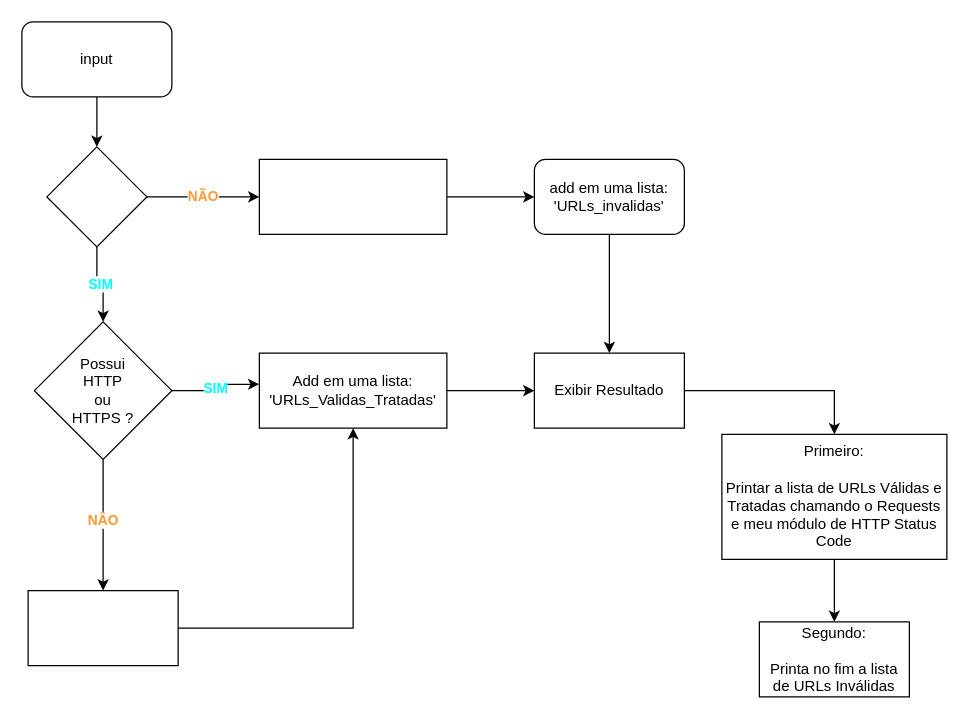
Some shapes in this 969 by 719 pixel diagram are drawn without their labels. The box of each missing label's shape, as (x1, y1, x2, y2) in pixels:
Add 'HTTPS://': (27, 589, 178, 666)
Adiciona descrição: variável+" URL Inválida": (258, 158, 447, 234)
URL Válida?: (46, 146, 147, 247)
